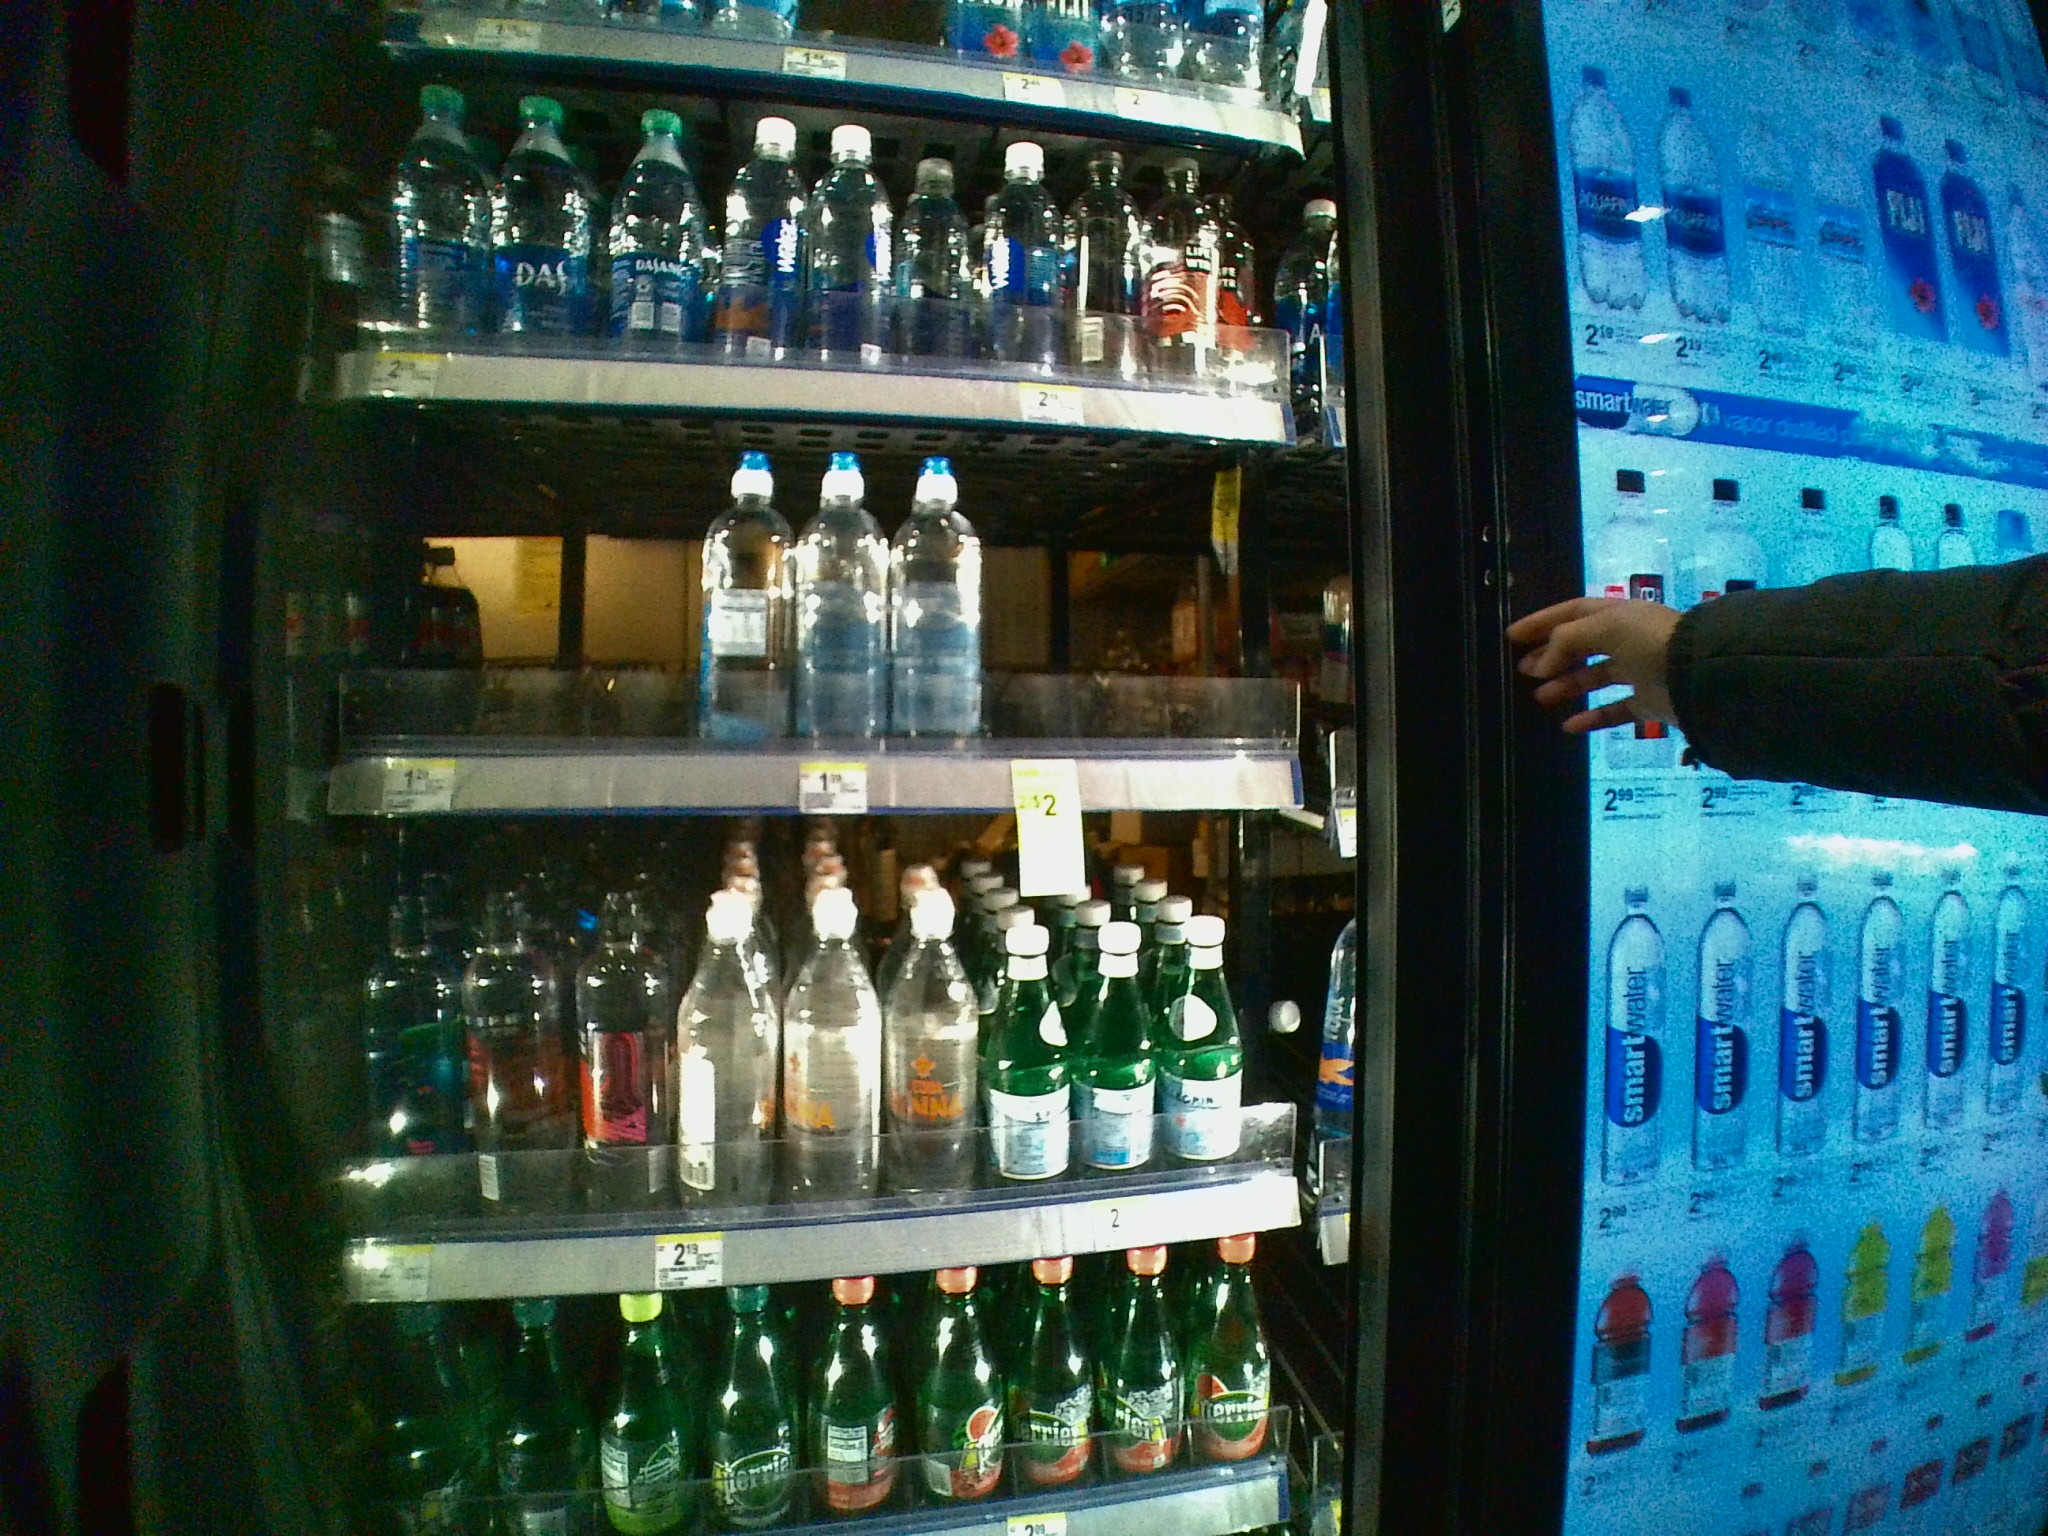shelf: (292, 812, 1322, 1310), (298, 407, 1313, 815)
